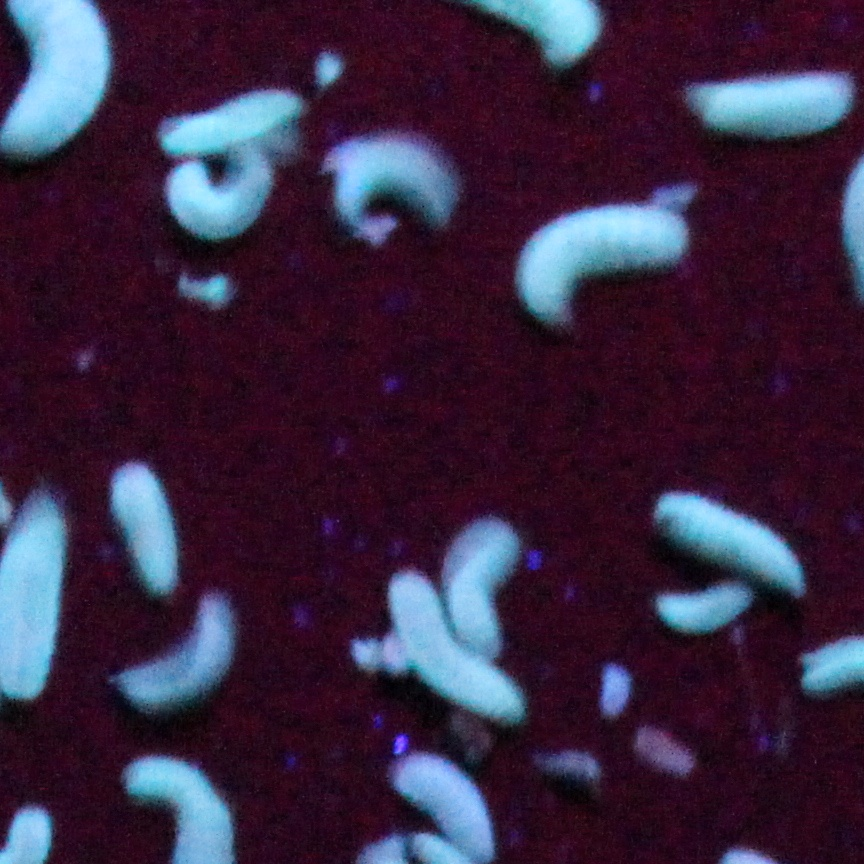larve: (388, 572, 524, 722), (509, 216, 686, 322), (663, 489, 811, 597), (115, 595, 236, 710), (336, 133, 463, 231), (438, 518, 526, 654), (686, 81, 861, 135), (169, 143, 265, 241), (111, 464, 178, 601), (161, 91, 301, 149), (655, 591, 757, 631)
